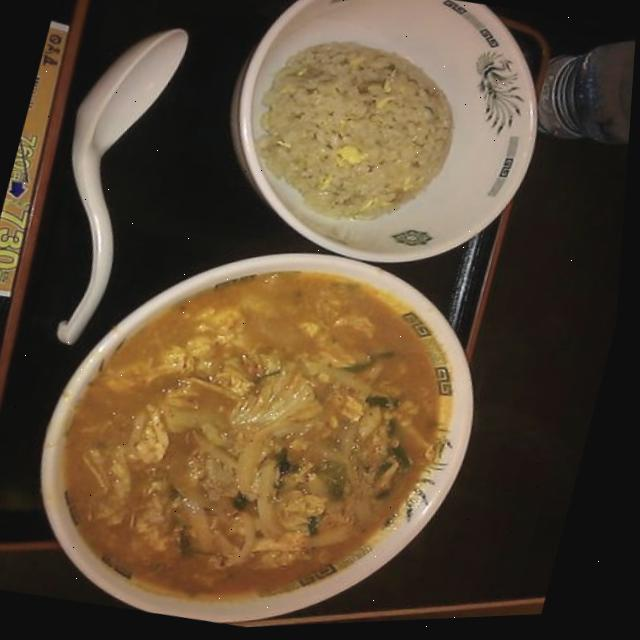米饭主食: (205, 0, 568, 294)
面条主食: (12, 211, 530, 638)
